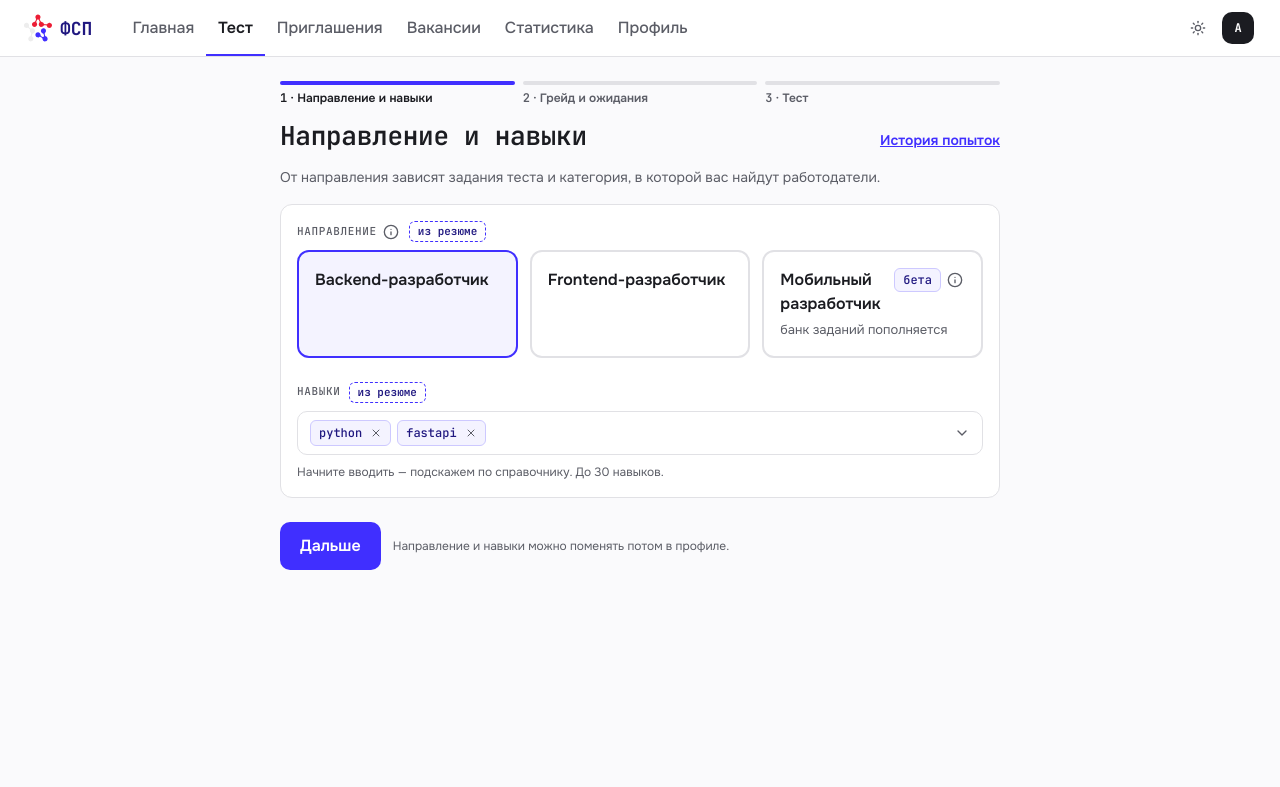
Test: поток до теста › без грейда тест не начинается, перевёрнутая вилка блокирует сохранение
This screenshot has width=1280, height=787.
Click the button with test id "assessment-next" at coordinates (330, 546), box [280,522,381,570]
(page scrolled)
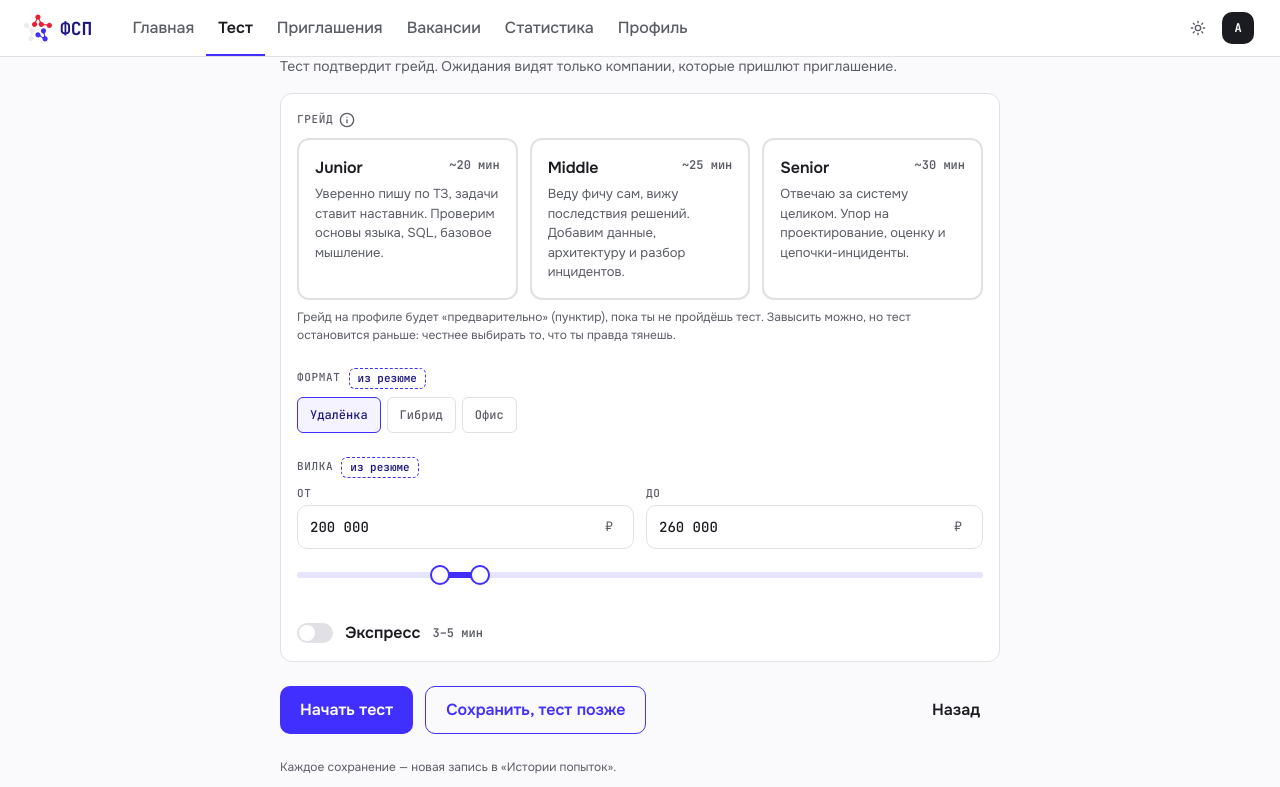
Click the button with test id "assessment-start" at coordinates (347, 710), box [280,686,413,734]
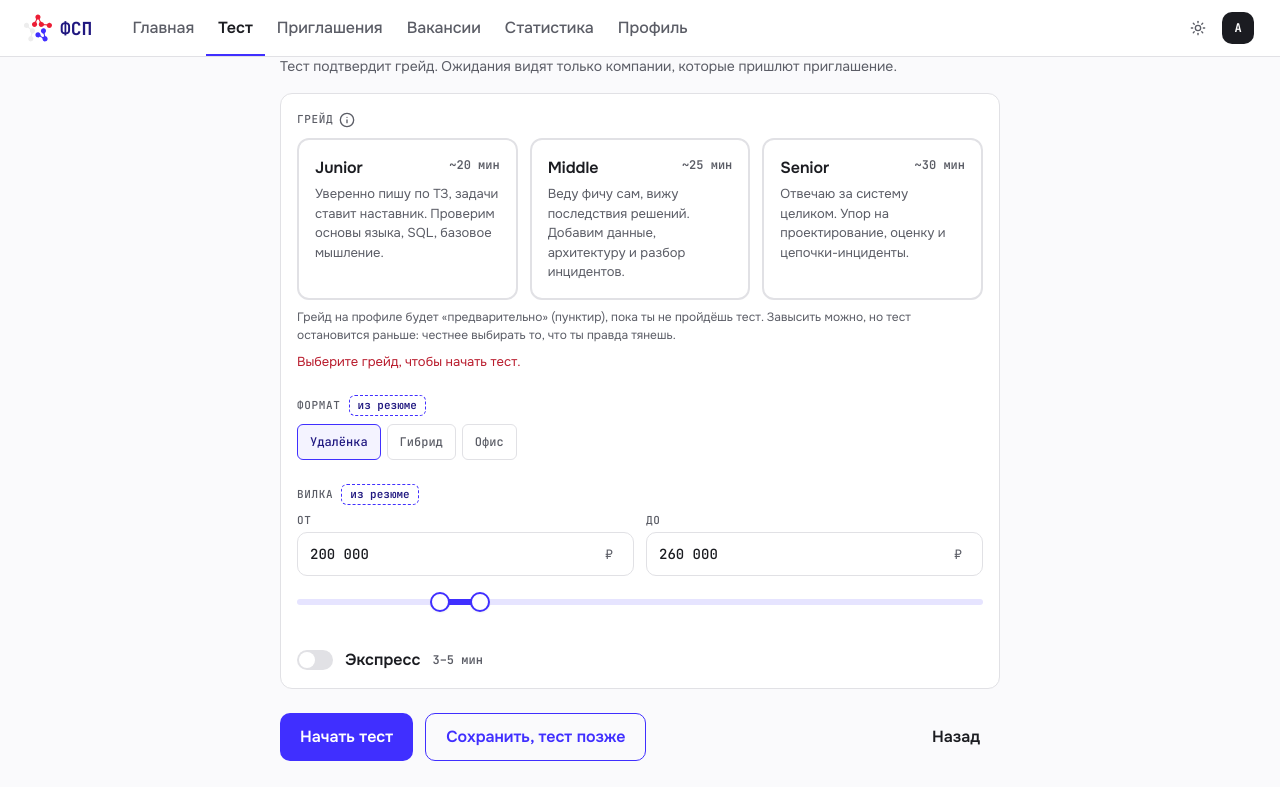
Check: the message "Выберите грейд, чтобы начать тест." is shown, box [297,352,521,370]
Replace the text in the field with test id "assessment-salary-from" with "300000" at coordinates (456, 554), box [310,533,601,575]
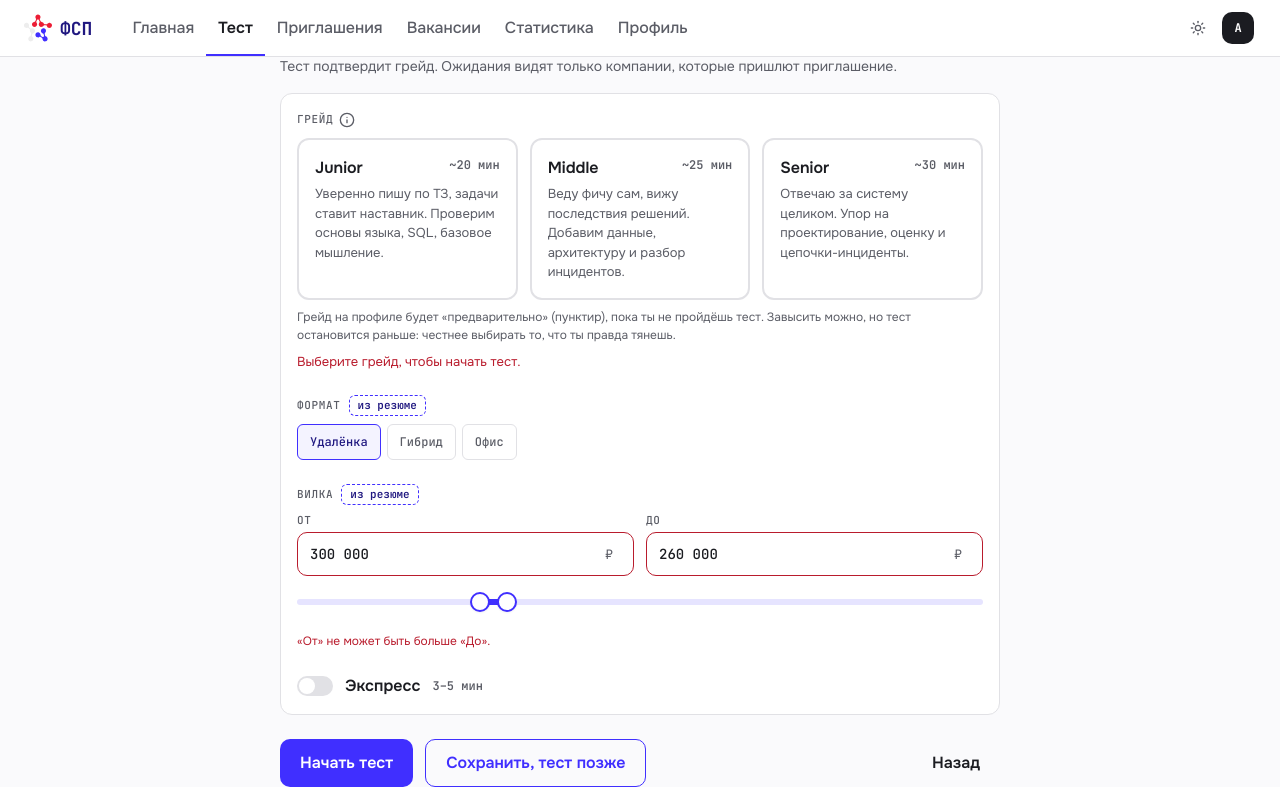
Check: the text "«От» не может быть больше «До»." is shown, box [297,633,490,649]
